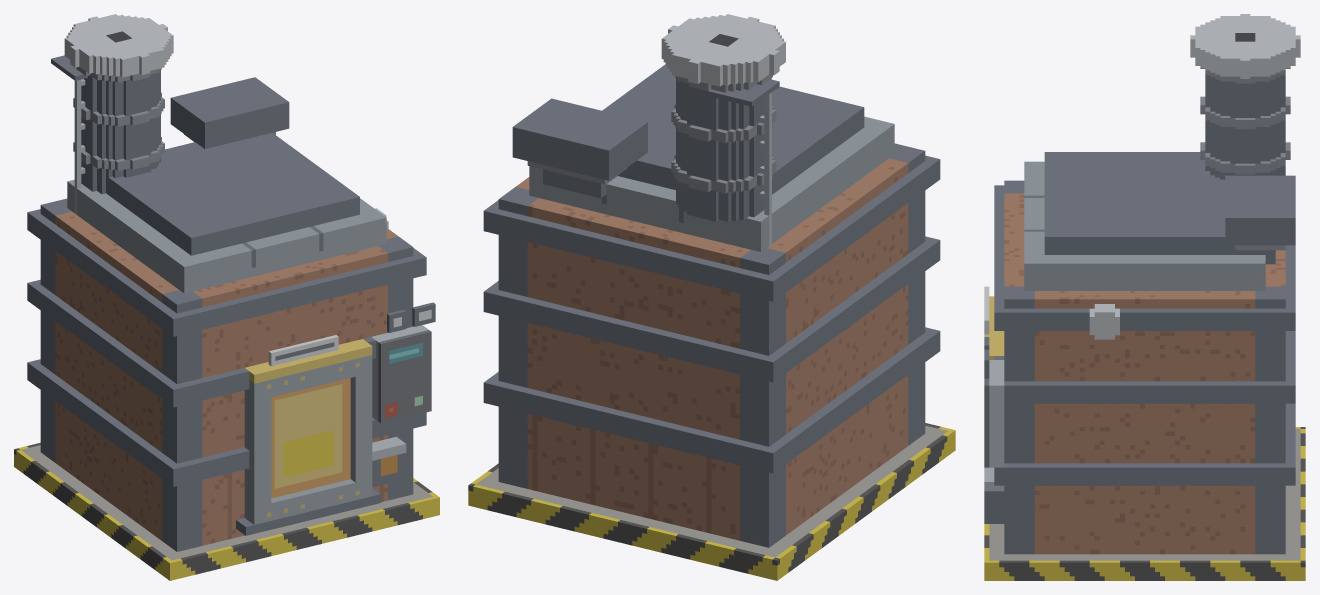
Rendered from smelter_furnace.glb.
3 renders of one model, left to right at view 1: azimuth 30°, elevation 25°; view 2: azimuth 150°, elevation 25°; view 3: azimuth 270°, elevation 25°, orthographic. The views are drawn at different scales.
Parts seen in each view (by area): view 1: smelter_furnace; view 2: smelter_furnace; view 3: smelter_furnace.
Part boxes in pixels (<box>): smelter_furnace: <box>14,14,439,580</box>; smelter_furnace: <box>468,14,955,580</box>; smelter_furnace: <box>984,14,1305,580</box>.
Size of the model in its own units: 2 by 3.06 by 2.
